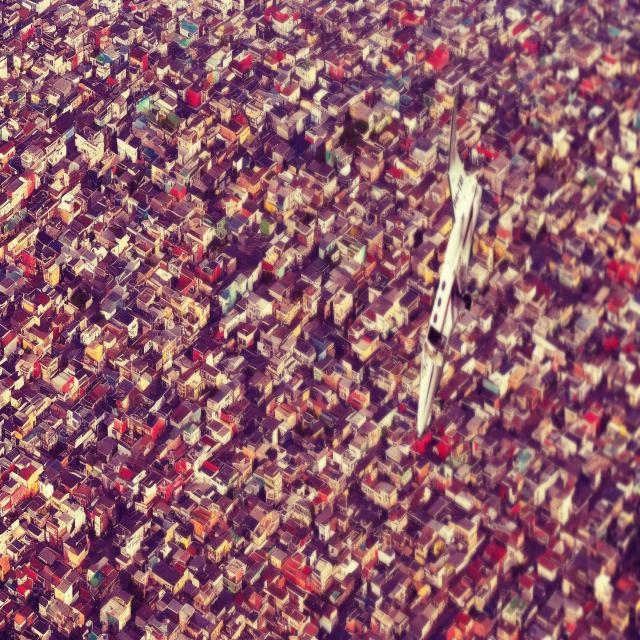airplane: (414, 92, 482, 438)
